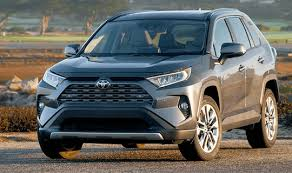Toyota: (40, 9, 270, 148)
